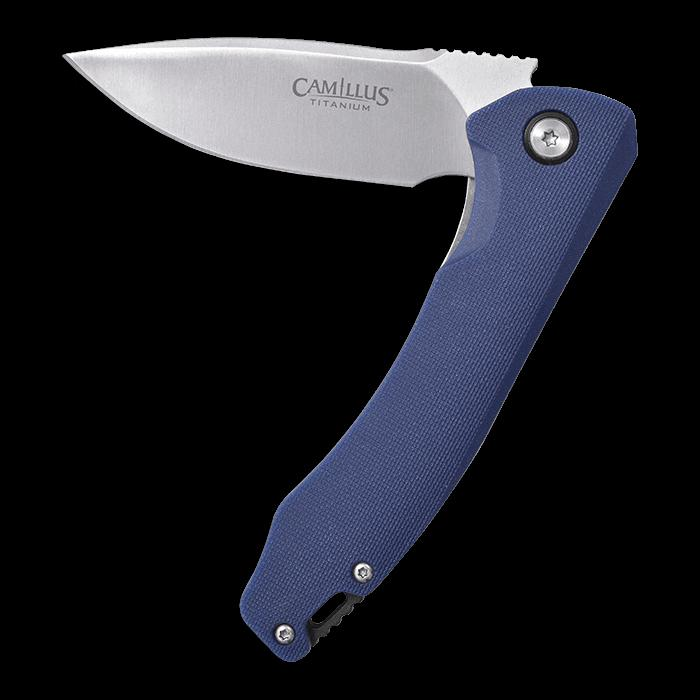Knife: (62, 35, 640, 230)
